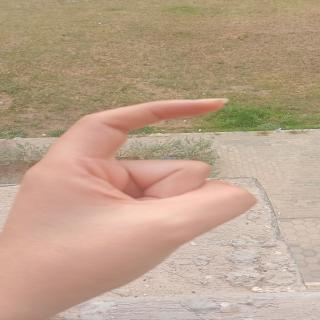RAA: (4, 85, 261, 268)
